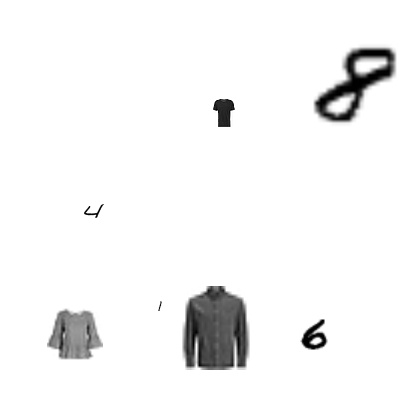1: (153, 299, 167, 313)
4: (79, 197, 107, 225)
6: (293, 315, 335, 357)
8: (299, 25, 411, 137)
Shirt: (174, 286, 258, 370), (47, 305, 103, 361)
T-shirt/top: (210, 99, 238, 127)
